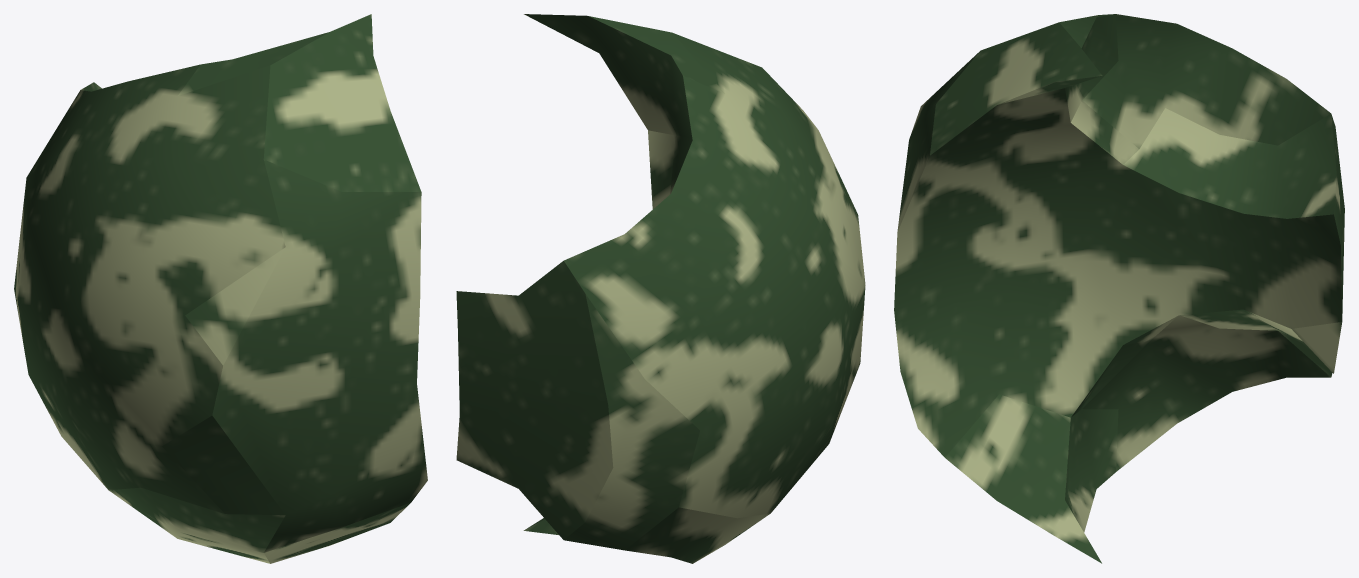
The model's file is link_body_01_composite.obj.
3 renders of one model, left to right at view 1: azimuth 30°, elevation 25°; view 2: azimuth 150°, elevation 25°; view 3: azimuth 270°, elevation 25°, orthographic. The views are drawn at different scales.
Parts seen in each view (by area): view 1: link_body_01; view 2: link_body_01; view 3: link_body_01.
Boxes of the visible parts, x1,y1,x2,y2 form: link_body_01: (14,14,427,563); link_body_01: (456,14,865,563); link_body_01: (894,14,1344,563).
Size of the model in its own units: 8.05 by 12.74 by 10.54.
Materials: 1 (1 with a texture image).
